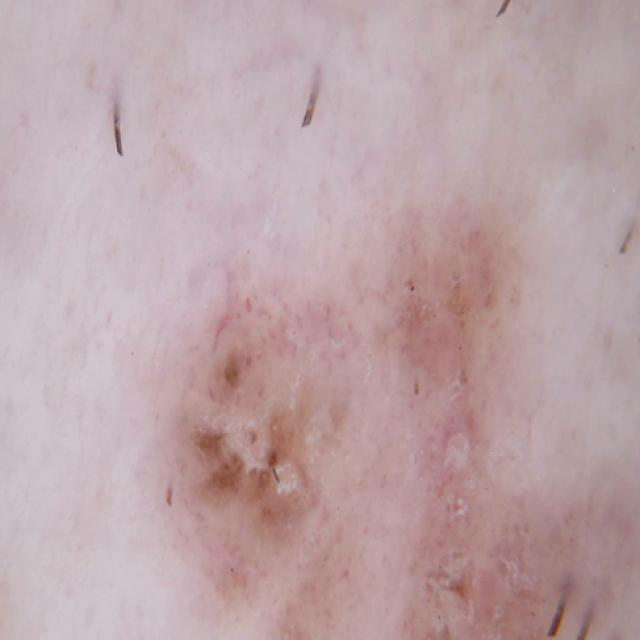Carcinoma: (377, 205, 598, 640), (176, 282, 370, 631)
